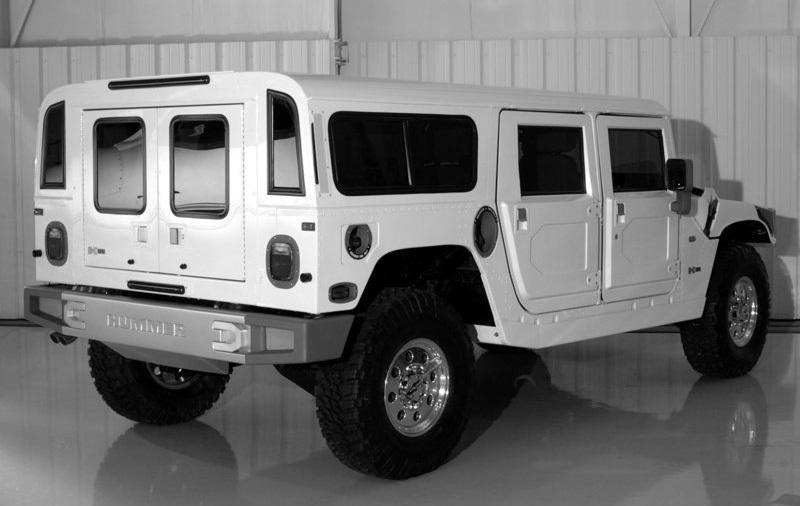car: (26, 72, 774, 480)
